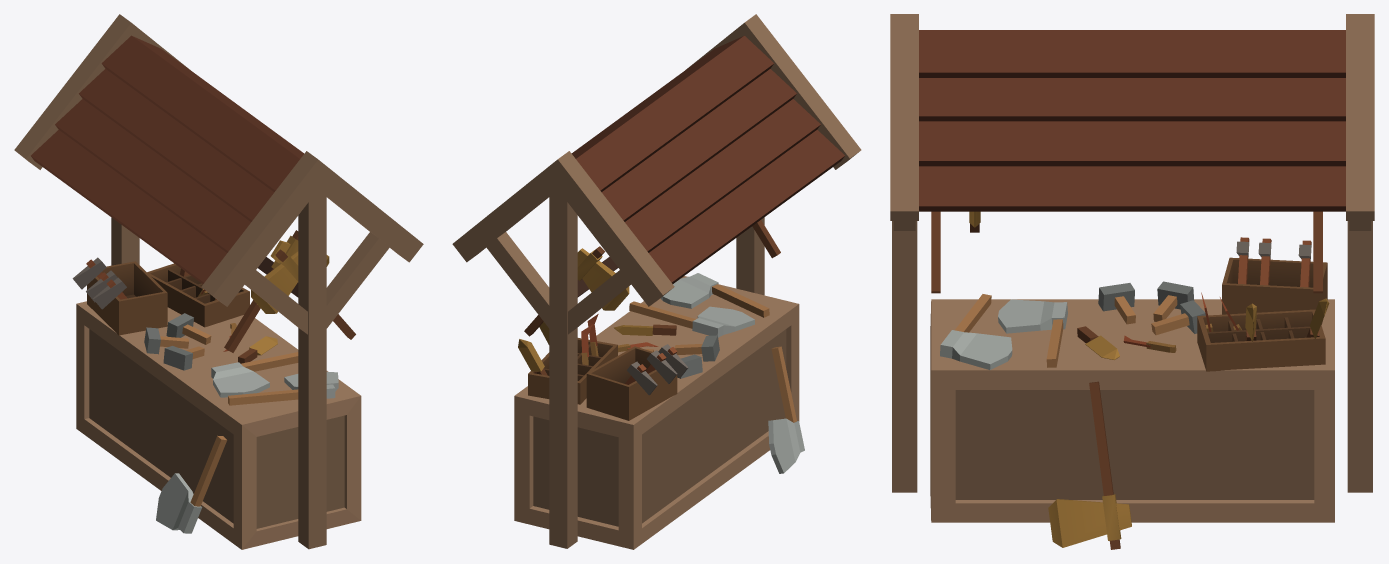
File: toolshop2.glb
3 views of the same model, side by side, from view 1: azimuth 30°, elevation 25°; view 2: azimuth 150°, elevation 25°; view 3: azimuth 270°, elevation 25° (orthographic). The views are drawn at different scales.
Parts seen in each view (by area): view 1: Cube.013; view 2: Cube.013; view 3: Cube.013.
Part boxes in pixels (x1=…): Cube.013: x1=14, y1=14, x2=423, y2=549; Cube.013: x1=452, y1=14, x2=861, y2=549; Cube.013: x1=890, y1=14, x2=1374, y2=549.
Size of the model in its own units: 1.81 by 3.11 by 2.88.
